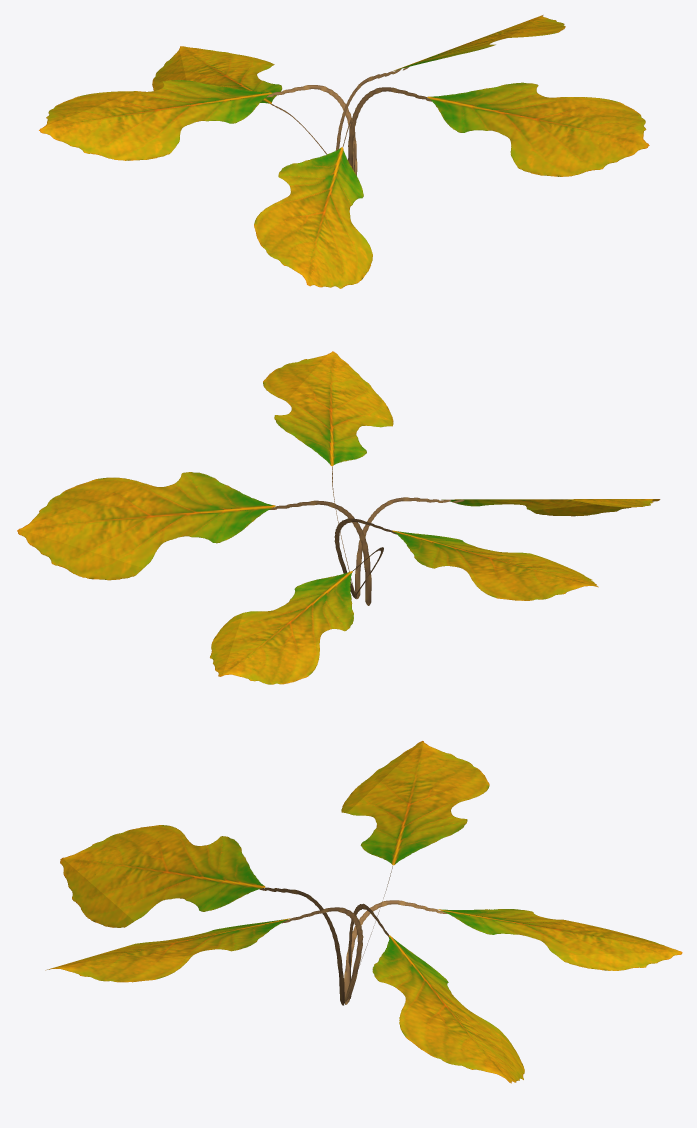
The model's file is Row Root A2.fbx.
3 views of the same model, one above another, from view 1: azimuth 30°, elevation 25°; view 2: azimuth 150°, elevation 25°; view 3: azimuth 270°, elevation 25° (orthographic). The views are drawn at different scales.
Visible parts, largest first — view 1: Row Root A2; view 2: Row Root A2; view 3: Row Root A2.
Boxes of the visible parts, x1,y1,x2,y2 form: Row Root A2: (39,15,649,288); Row Root A2: (17,351,660,684); Row Root A2: (45,741,682,1083).
Size of the model in its own units: 240 by 51.9 by 220.
